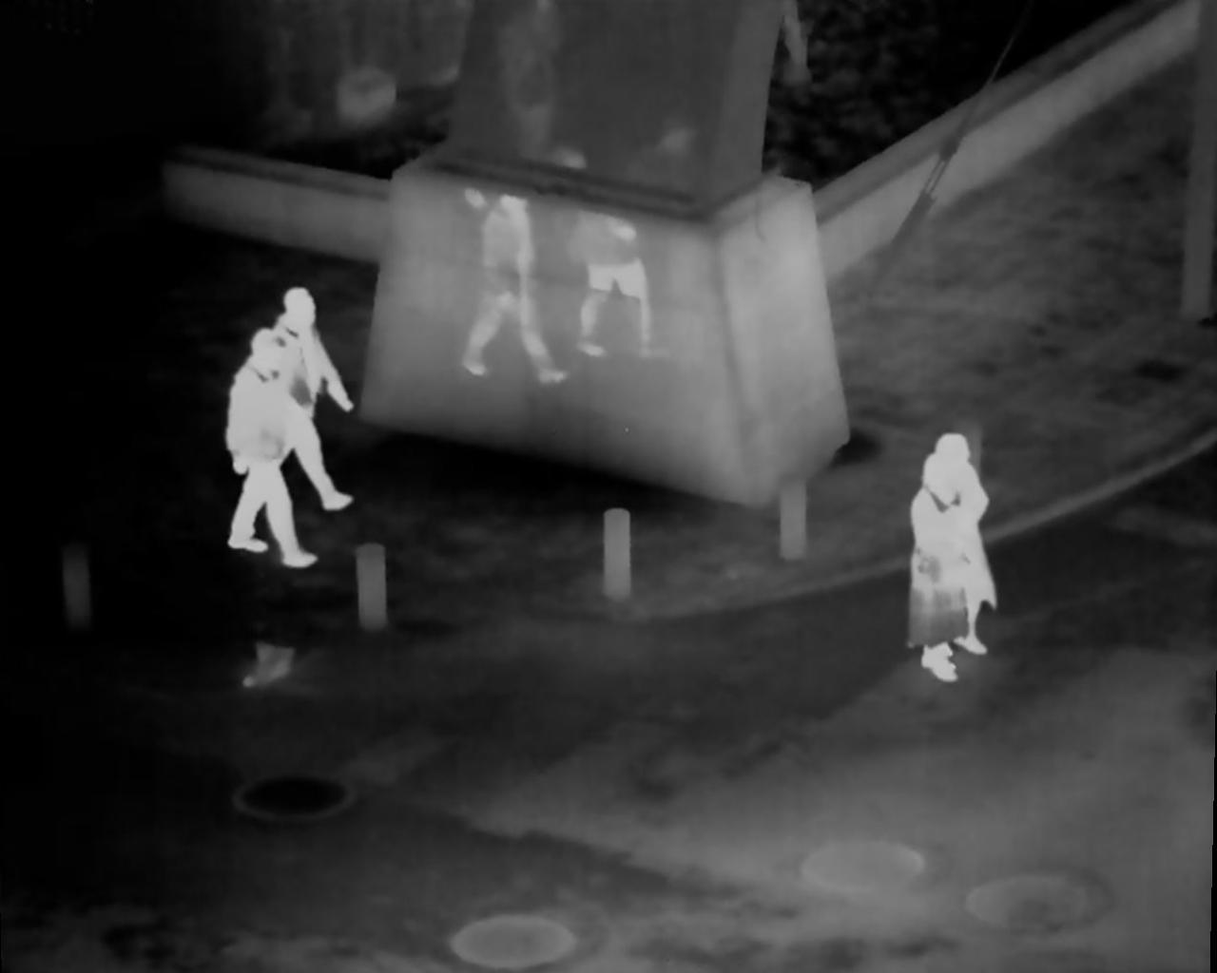person: (228, 329, 319, 570), (279, 289, 353, 514), (906, 452, 965, 685), (935, 434, 995, 657)
